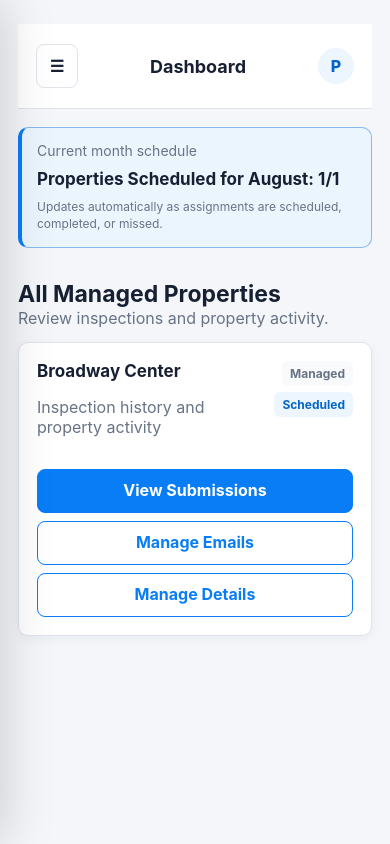
it: assigned property manager email is automatic and cannot be added twice
Click the button "Manage Emails" at (195, 543), box [37,521,353,565]
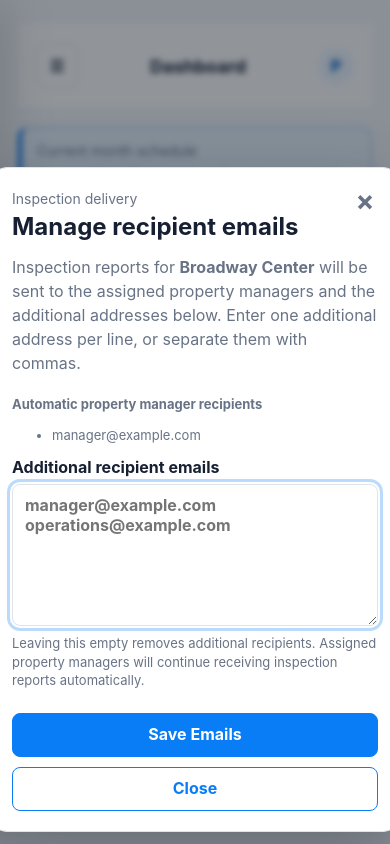
Expected: the element labelled "Automatic property manager recipients" shows "manager@example.com", [52,427,201,443]
Type "MANAGER@example.com" into the text box labelled "Additional recipient emails" at (195, 555), box [12,484,378,626]
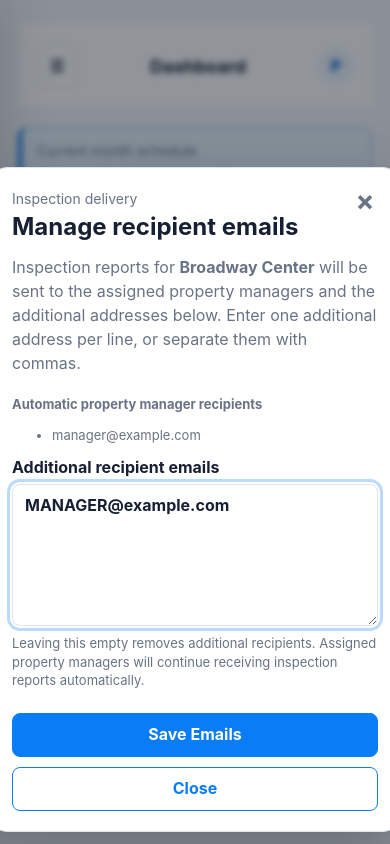
Click the button "Save Emails" at (195, 735), box [12,713,378,757]
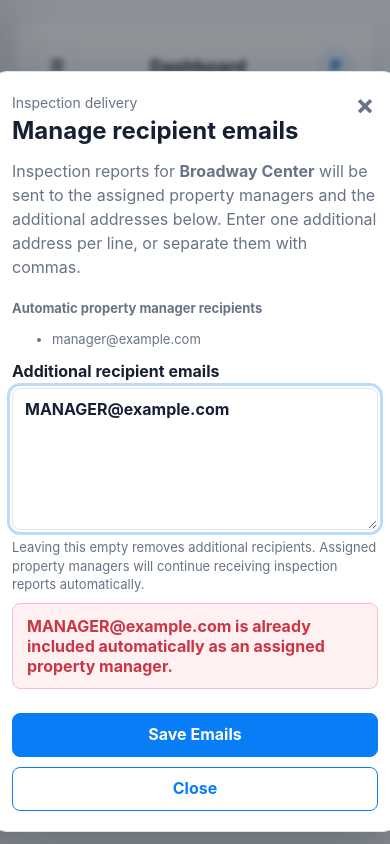
Expected: the message shows "already included automatically", [27,616,325,676]
